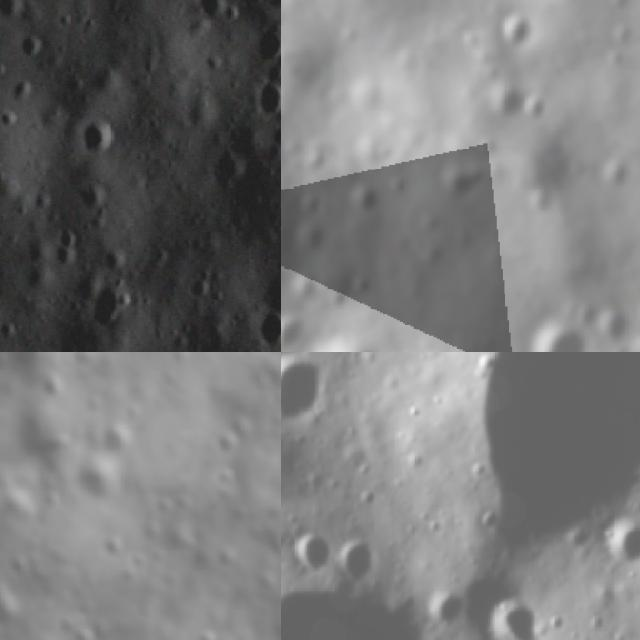crater: (454, 352, 640, 567), (281, 526, 495, 640), (0, 63, 55, 264), (55, 100, 134, 174), (69, 441, 133, 509), (76, 277, 136, 344), (203, 133, 261, 198), (335, 526, 391, 592), (281, 360, 336, 424), (425, 158, 496, 206), (161, 0, 250, 35), (285, 524, 339, 576), (94, 409, 145, 464), (596, 510, 640, 572), (289, 330, 411, 352), (242, 66, 281, 134), (490, 4, 539, 54), (241, 15, 281, 75), (518, 319, 589, 352), (486, 603, 548, 640), (242, 294, 281, 352), (590, 304, 637, 347), (340, 179, 384, 223), (11, 24, 55, 66), (281, 300, 316, 352), (520, 181, 563, 218), (597, 155, 635, 193), (520, 90, 555, 131), (124, 543, 160, 579), (96, 530, 128, 564), (66, 618, 106, 640), (0, 0, 30, 21)
